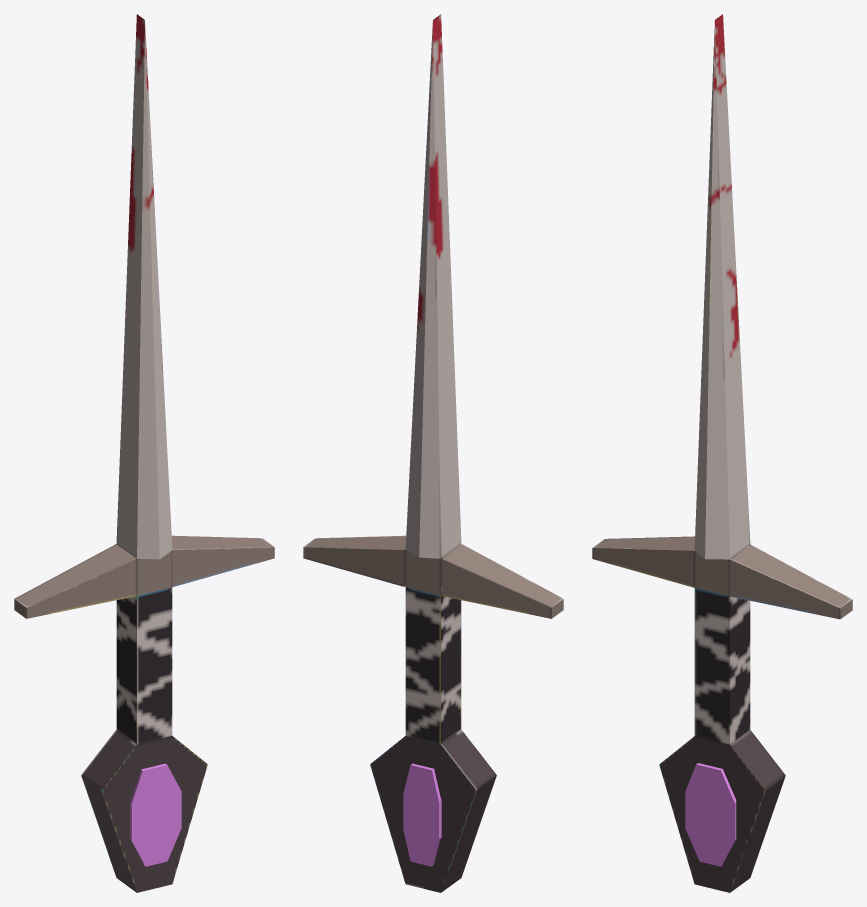
File: hançer.obj
The picture shows the model from 3 angles, left to right: view 1: azimuth 30°, elevation 25°; view 2: azimuth 150°, elevation 25°; view 3: azimuth 330°, elevation 25°; orthographic projection.
Visible parts, largest first — view 1: cube; view 2: cube; view 3: cube.
Part boxes in pixels (<box>): cube: <box>14,14,274,892</box>; cube: <box>303,14,563,892</box>; cube: <box>592,14,852,892</box>.
Bounding box in the file's own units: 0.4375 × 1.46 × 0.0938.
